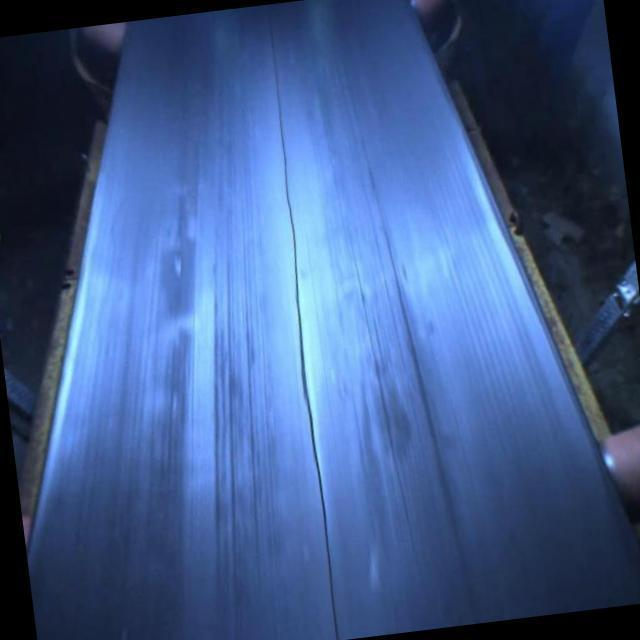Tear: (262, 20, 355, 640)
